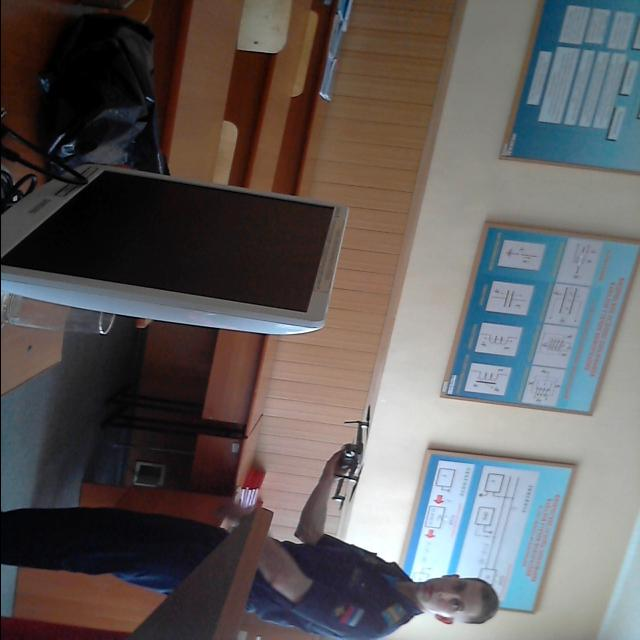drone: (314, 414, 389, 514)
